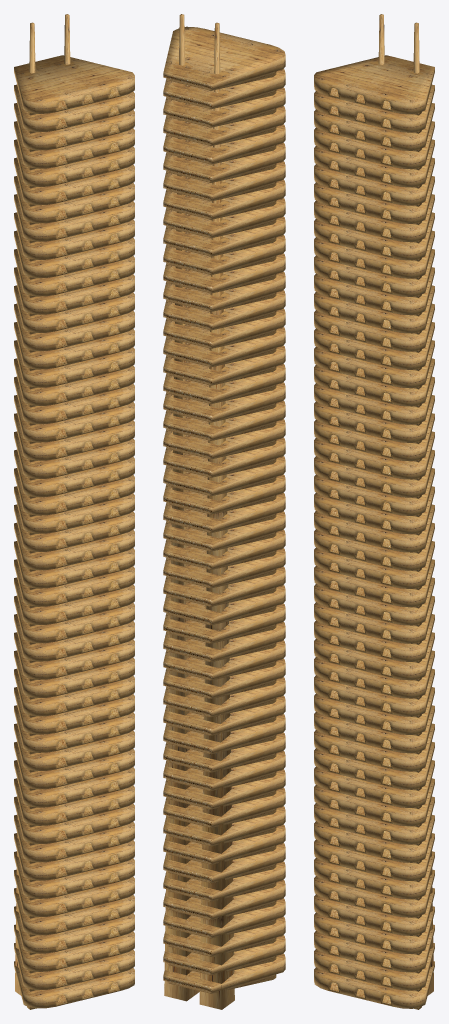
Rendered from building2.glb.
The picture shows the model from 3 angles, left to right: view 1: azimuth 30°, elevation 25°; view 2: azimuth 150°, elevation 25°; view 3: azimuth 330°, elevation 25°; orthographic projection.
Visible parts, largest first — view 1: Cube.004; view 2: Cube.004; view 3: Cube.004.
Boxes of the visible parts, box(x1,y1,x2,y2) form: Cube.004: box(14, 14, 134, 1009); Cube.004: box(163, 14, 285, 1009); Cube.004: box(314, 14, 434, 1009).
Bounding box in the file's own units: 100 × 850 × 79.24.
Materials: 1 (1 with a texture image).
